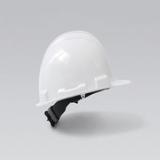Helmet: (36, 30, 132, 108)
